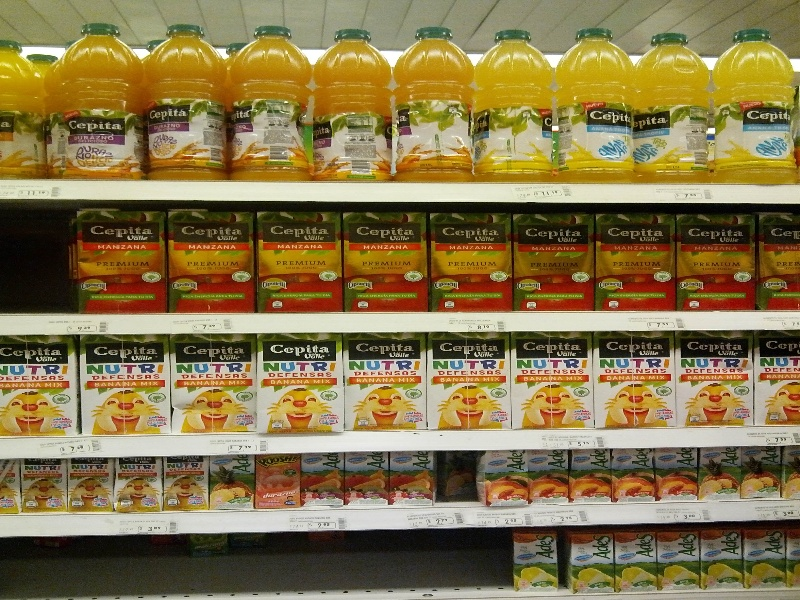juice: (67, 206, 169, 312), (164, 199, 258, 314), (340, 203, 435, 313), (511, 206, 601, 314), (254, 206, 344, 313), (427, 209, 514, 315), (596, 204, 681, 311), (166, 334, 256, 434), (341, 331, 430, 431), (77, 334, 167, 431), (424, 330, 511, 429), (508, 330, 595, 428), (596, 330, 679, 431), (259, 334, 342, 432), (677, 214, 756, 309)
